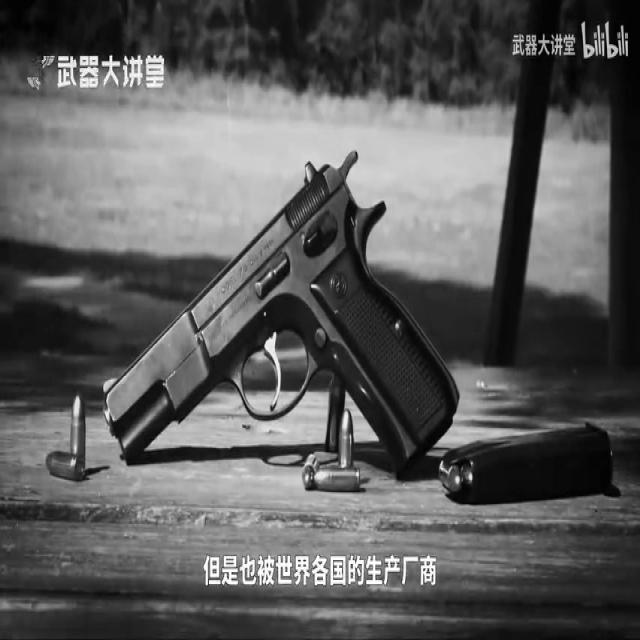Hand-Gun: (101, 144, 463, 483)
